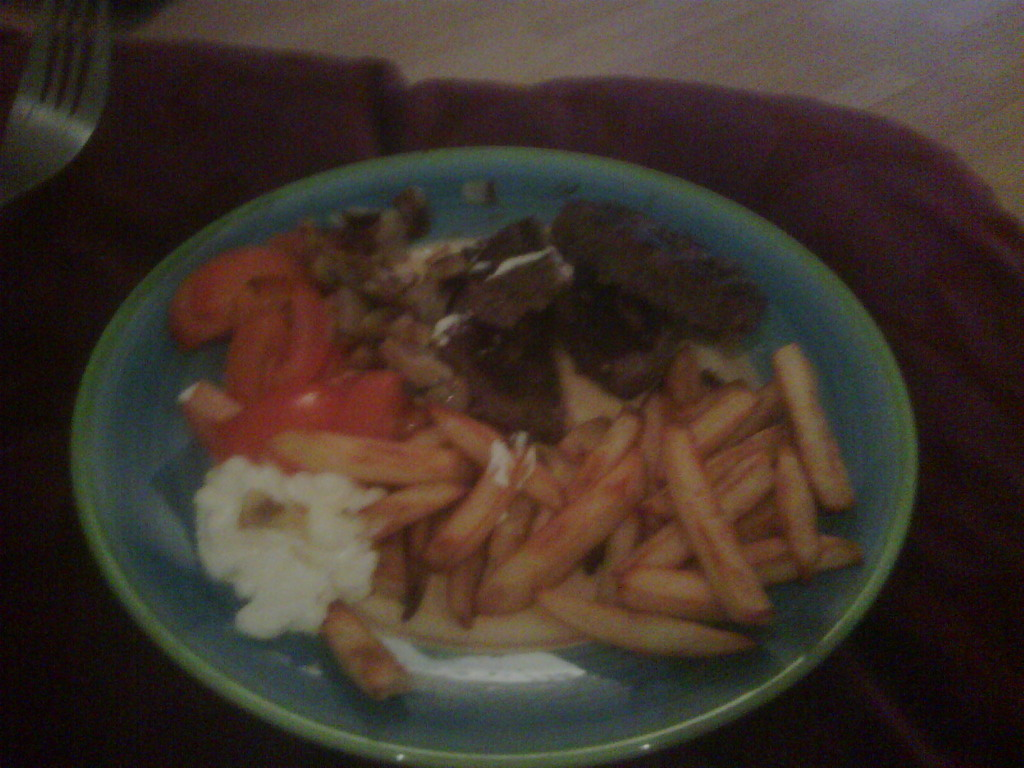French fries: (261, 330, 871, 711)
